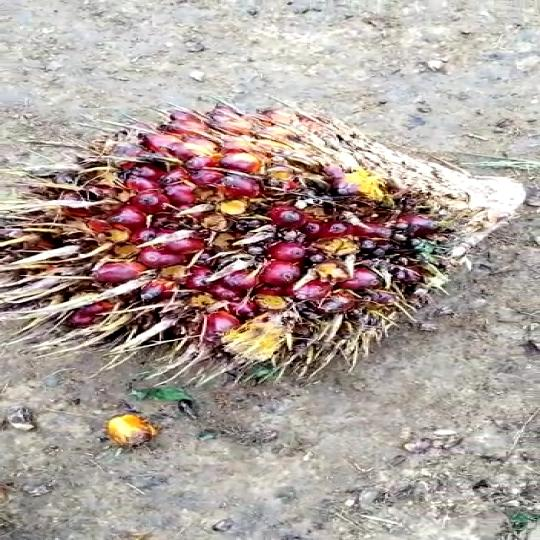masak: (0, 102, 519, 386)
